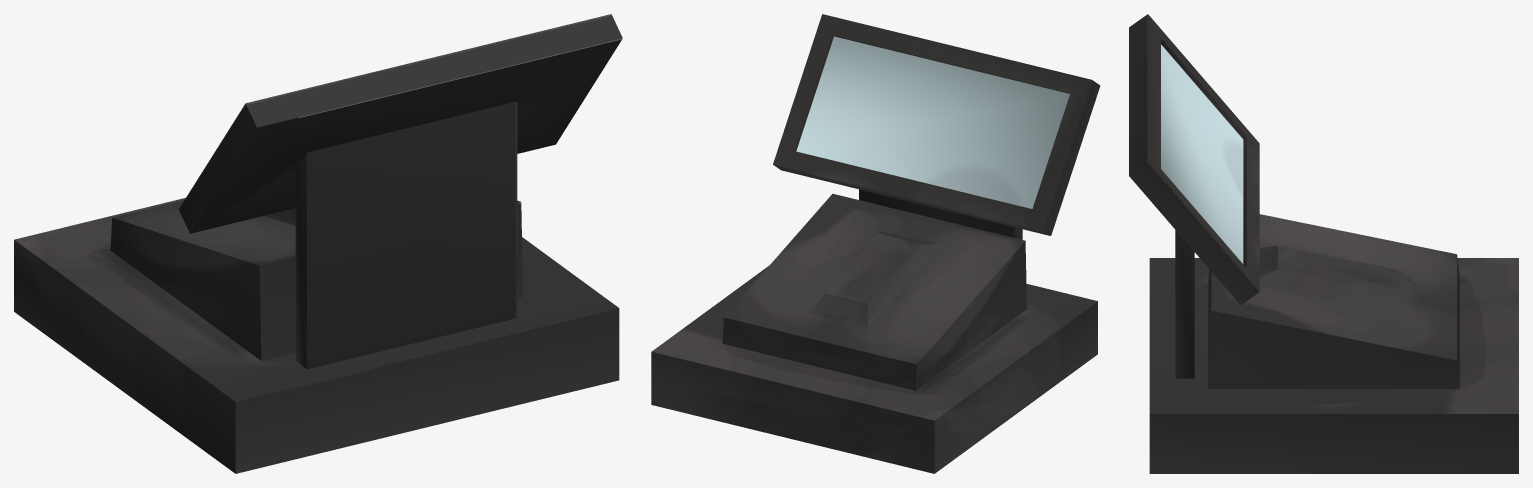
File: Register_GEO.fbx
The picture shows the model from 3 angles, left to right: view 1: azimuth 30°, elevation 25°; view 2: azimuth 150°, elevation 25°; view 3: azimuth 270°, elevation 25°; orthographic projection. The views are drawn at different scales.
Visible parts, largest first — view 1: Register_GEO; view 2: Register_GEO; view 3: Register_GEO.
Part boxes in pixels (x1,y1,x2,y2): Register_GEO: (14, 14, 622, 473); Register_GEO: (651, 14, 1100, 473); Register_GEO: (1129, 14, 1518, 473).
Size of the model in its own units: 86.13 by 79.19 by 90.93.
Materials: 1 (1 with a texture image).
